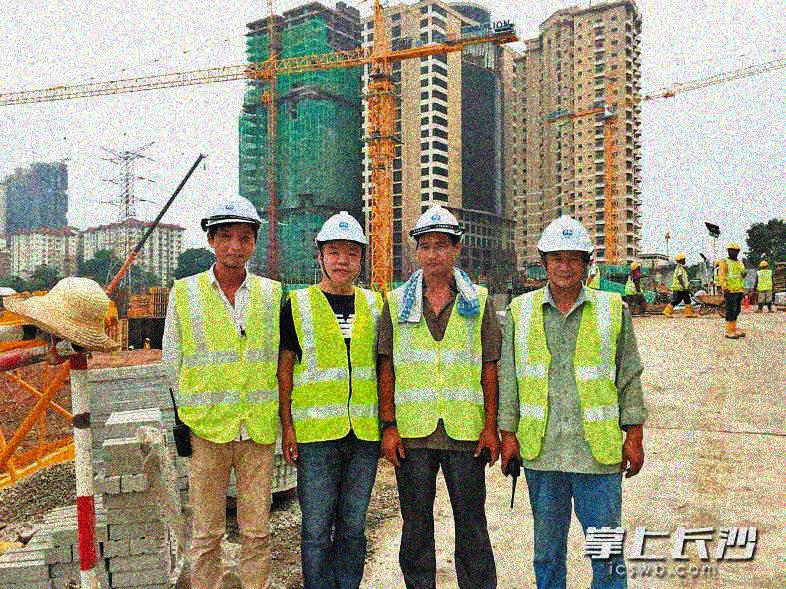helmet: (200, 195, 266, 268), (409, 204, 468, 278), (535, 214, 595, 286), (314, 210, 369, 287), (724, 240, 741, 259), (673, 253, 688, 265), (629, 261, 641, 273), (758, 259, 770, 271), (715, 258, 724, 269), (587, 256, 594, 267)
